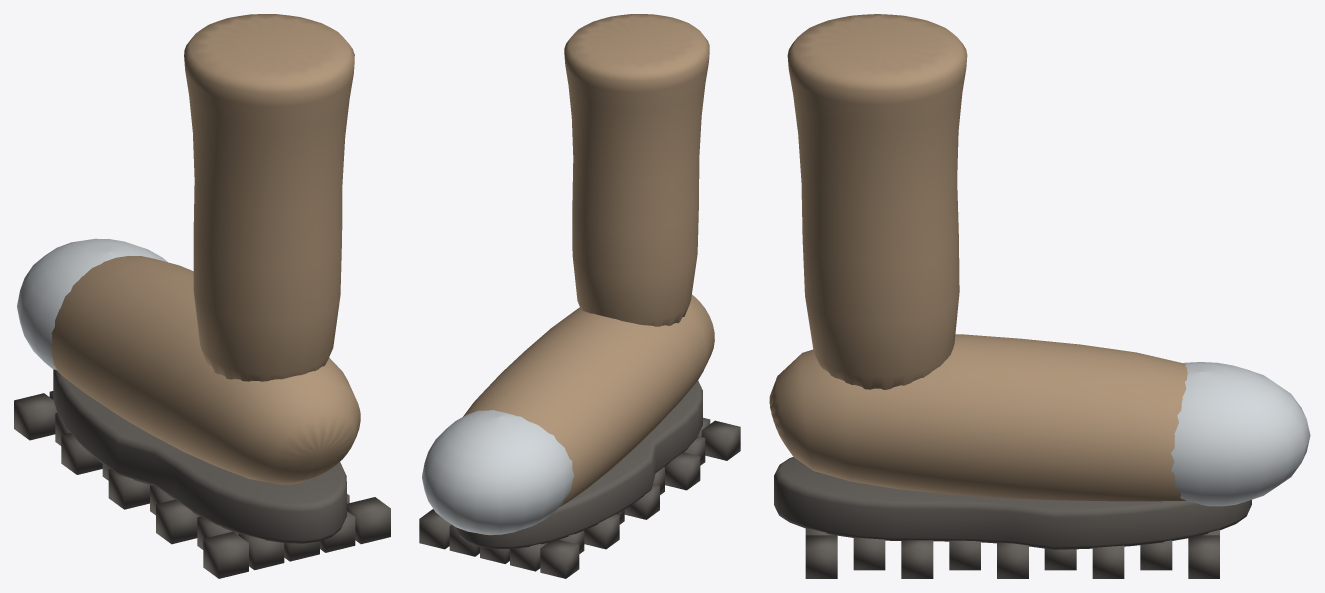
Rendered from boot.glb.
The picture shows the model from 3 angles, left to right: view 1: azimuth 30°, elevation 25°; view 2: azimuth 150°, elevation 25°; view 3: azimuth 270°, elevation 25°; orthographic projection. The views are drawn at different scales.
Visible parts, largest first — view 1: boot; view 2: boot; view 3: boot.
Boxes of the visible parts, x1,y1,x2,y2 form: boot: [14, 14, 390, 578]; boot: [419, 14, 740, 578]; boot: [769, 14, 1310, 578].
Bounding box in the file's own units: 0.126 × 0.3418 × 0.3395.
